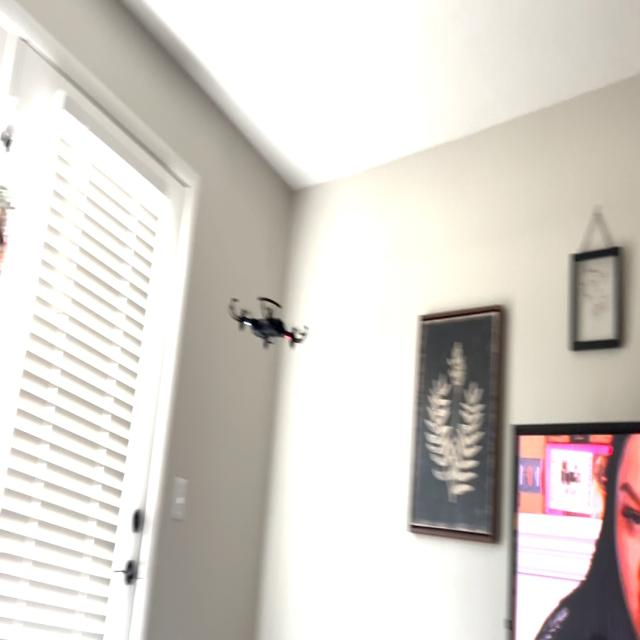drone: (222, 270, 312, 363)
